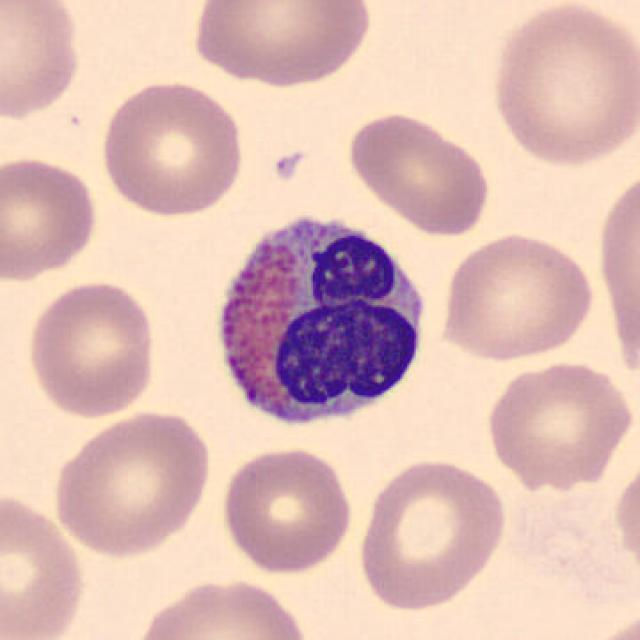Eosinophil: (203, 201, 437, 443)
Platelets: (268, 146, 310, 185)
RBC: (486, 0, 638, 171), (352, 453, 512, 614), (48, 405, 215, 559), (434, 229, 599, 365), (96, 76, 249, 220), (480, 356, 635, 490), (21, 275, 160, 421), (343, 108, 494, 238), (217, 442, 355, 576), (186, 0, 378, 90), (0, 486, 90, 640), (0, 151, 101, 283), (128, 575, 313, 640), (592, 157, 640, 384), (0, 0, 85, 123), (610, 453, 638, 584), (581, 604, 639, 640)
